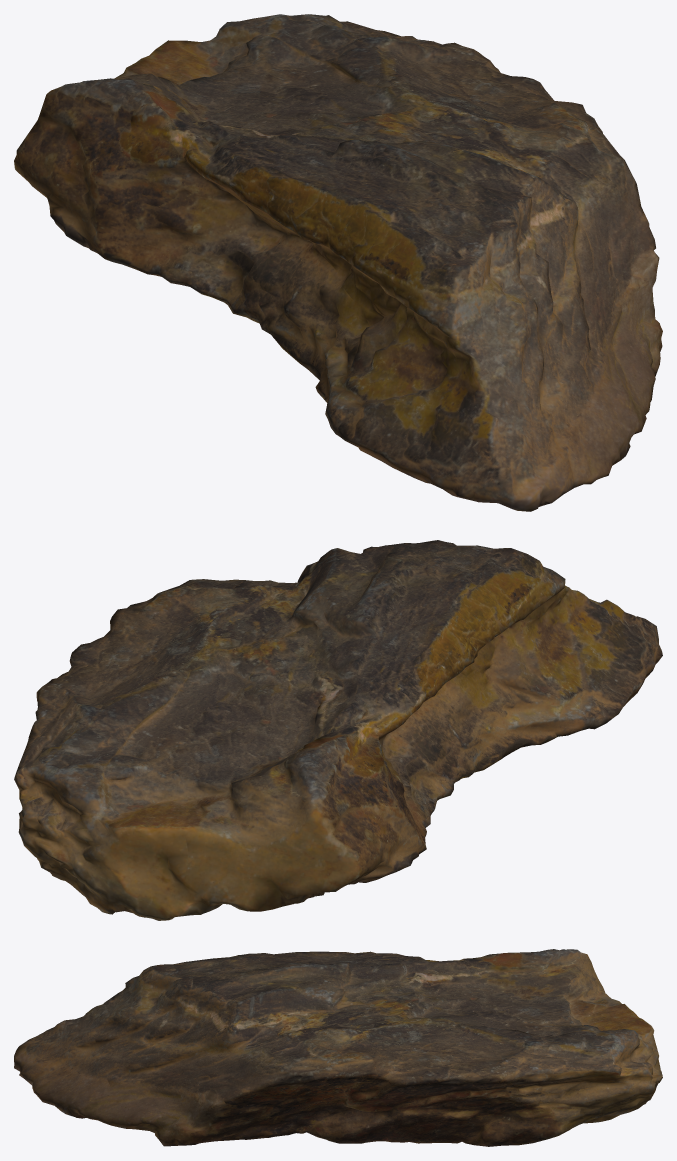
File: rock_09.gltf
3 renders of one model, top to bottom at view 1: azimuth 30°, elevation 25°; view 2: azimuth 150°, elevation 25°; view 3: azimuth 270°, elevation 25°, orthographic. The views are drawn at different scales.
Visible parts, largest first — view 1: rock_09_LOD0; view 2: rock_09_LOD0; view 3: rock_09_LOD0.
Boxes of the visible parts, x1,y1,x2,y2 form: rock_09_LOD0: (14,14,662,511); rock_09_LOD0: (14,540,662,920); rock_09_LOD0: (14,949,662,1146).
Bounding box in the file's own units: 0.074 × 0.0329 × 0.1446.
Materials: 1 (1 with a texture image).
